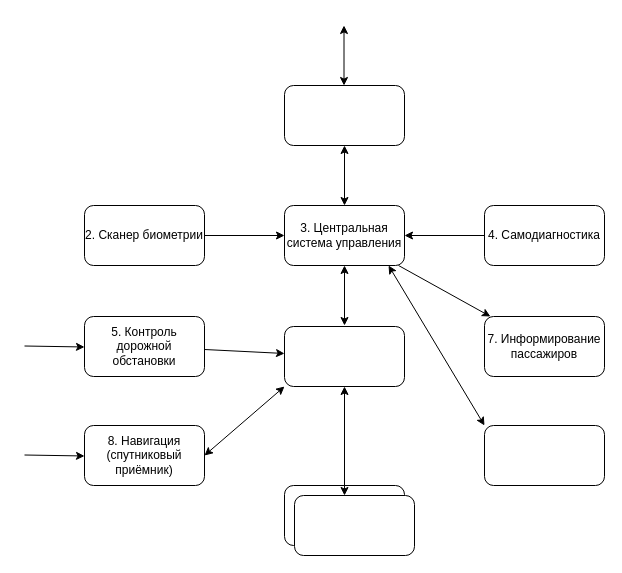
The diagram is 622 pixels wide and 573 high, and some of its shapes have lost their labels. The shapes that lost their labels are listed below. From the top down, each one's centre as x and y in pixels, then its label:
pixel 344 115: 1. Связь
pixel 344 356: 6. Управление перемещением
pixel 544 455: 9. Кондиционирование салона
pixel 354 525: 10. приводы
